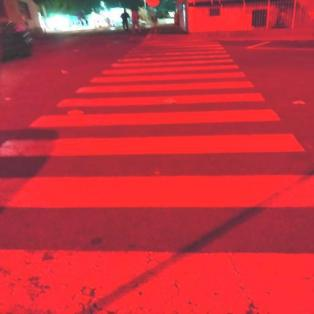Paso de Cebra: (24, 91, 289, 133), (86, 63, 248, 85)
